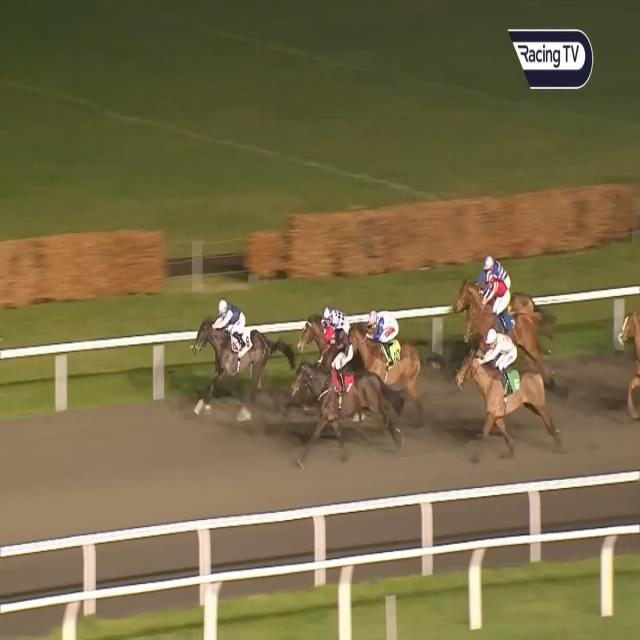horses-racing: (186, 296, 290, 419), (298, 321, 393, 451), (459, 332, 558, 443), (451, 269, 546, 355), (342, 309, 424, 391), (462, 252, 534, 316), (298, 301, 353, 364), (618, 299, 640, 425)
